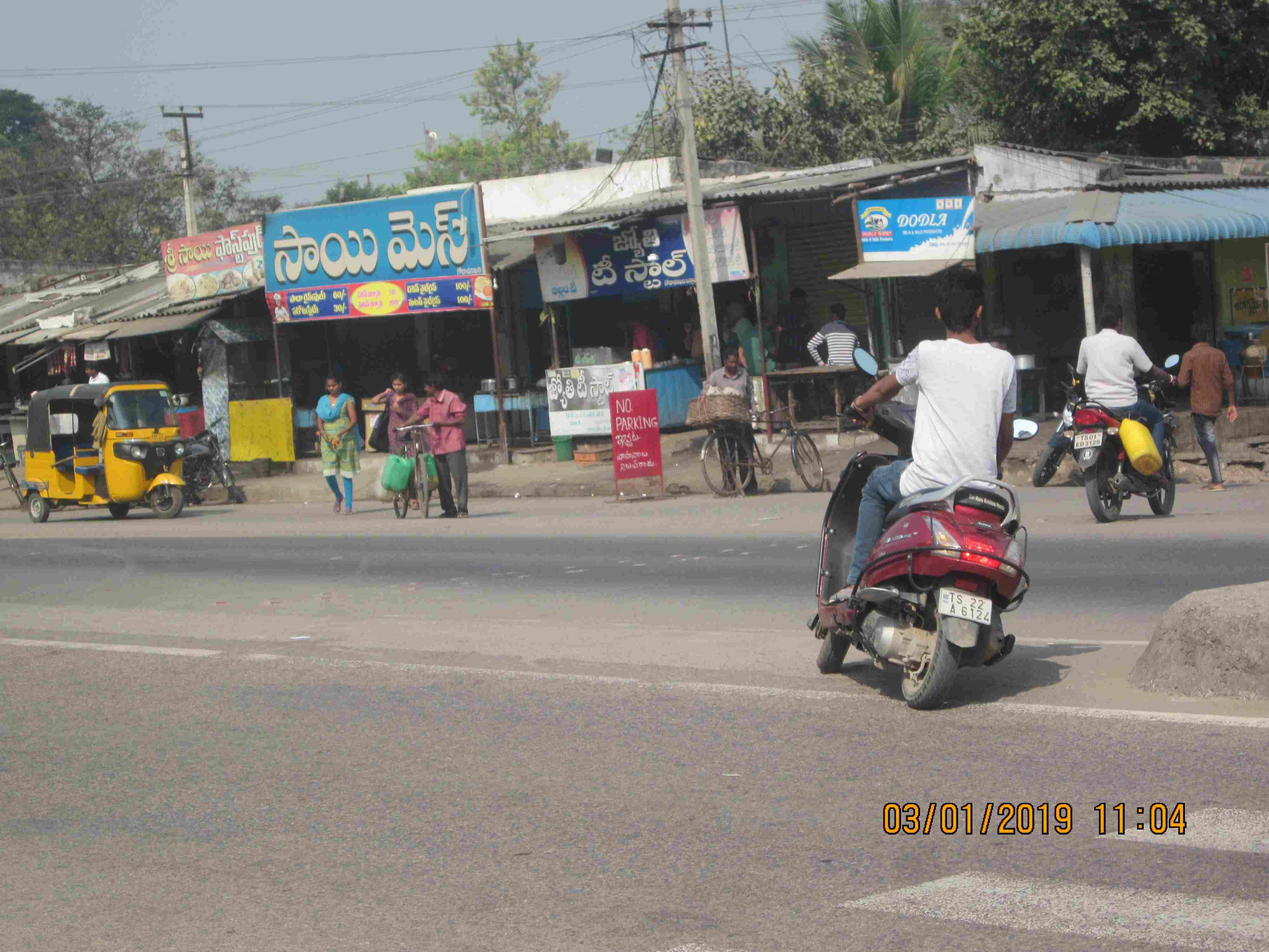plate: (935, 575, 1000, 627)
